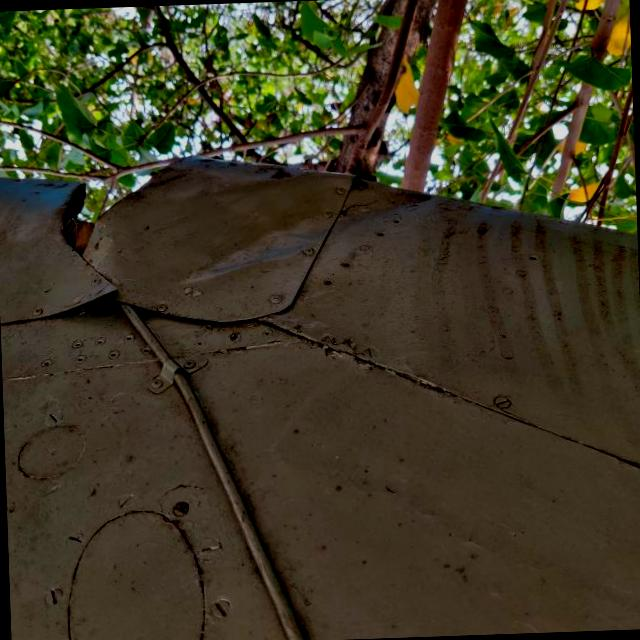dent: (137, 136, 445, 296)
